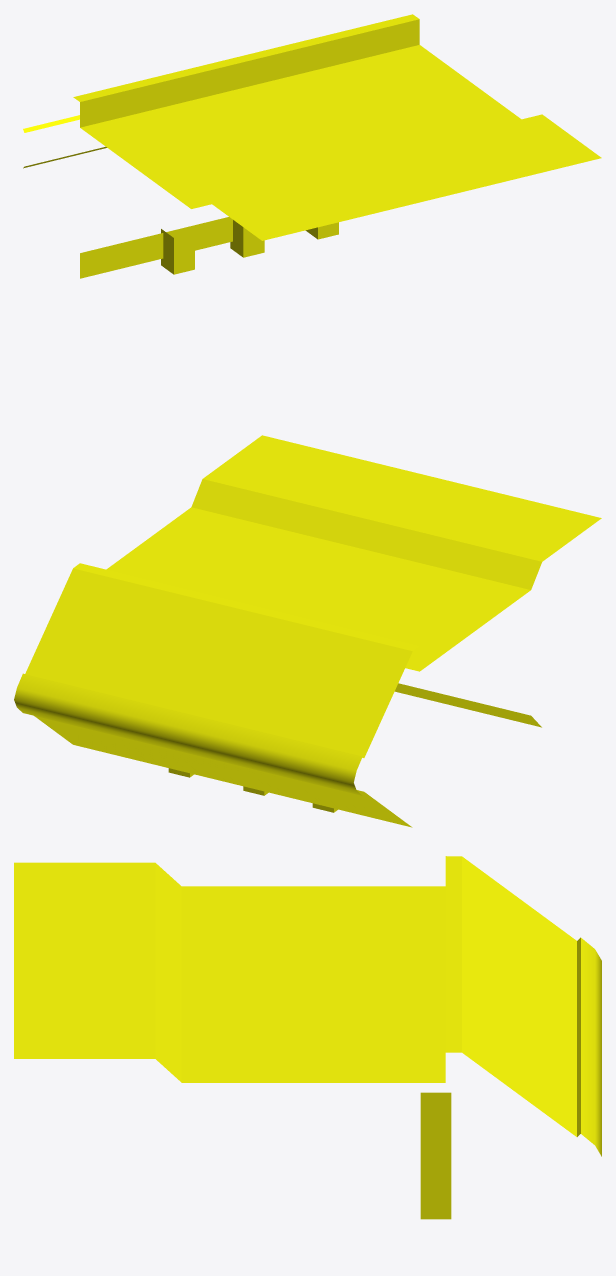
File: wall.glb
3 renders of one model, top to bottom at view 1: azimuth 30°, elevation 25°; view 2: azimuth 150°, elevation 25°; view 3: azimuth 270°, elevation 25°, orthographic. The views are drawn at different scales.
Parts seen in each view (by area): view 1: Wall_part1; view 2: Wall_part1; view 3: Wall_part1.
Part boxes in pixels (<box>): Wall_part1: <box>23,14,601,278</box>; Wall_part1: <box>14,435,601,827</box>; Wall_part1: <box>14,856,601,1219</box>.
Size of what is drawn, in the model's own units: 3.91 by 2.04 by 4.94.
Materials: 1 (1 with a texture image).
